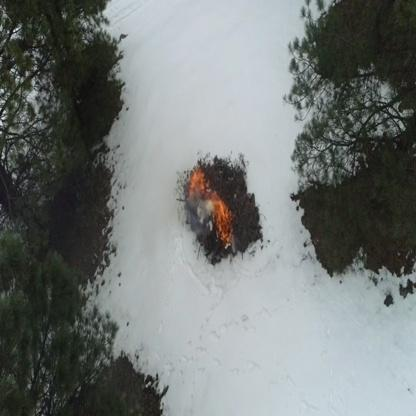Fire: (215, 209, 233, 225), (199, 170, 208, 192), (220, 226, 231, 242), (214, 194, 223, 209), (193, 175, 198, 189)
